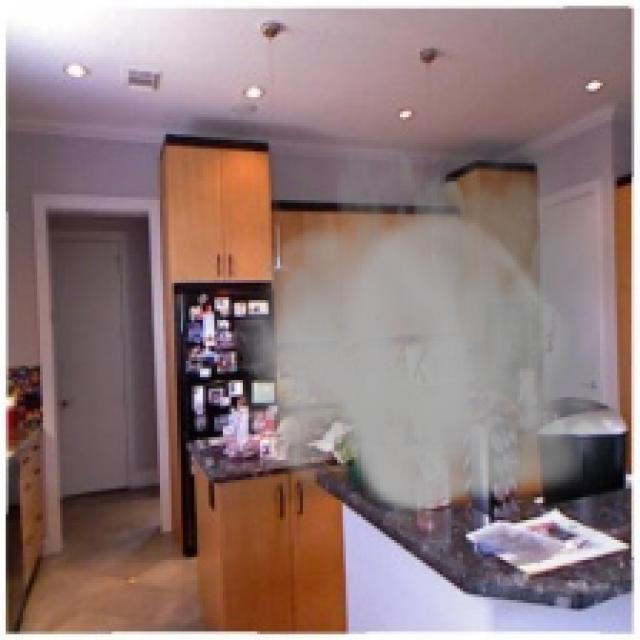smoke: (234, 103, 637, 520)
